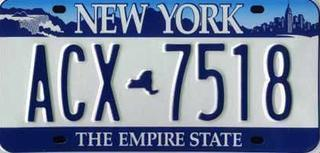placa de veiculo: (3, 1, 309, 153)
